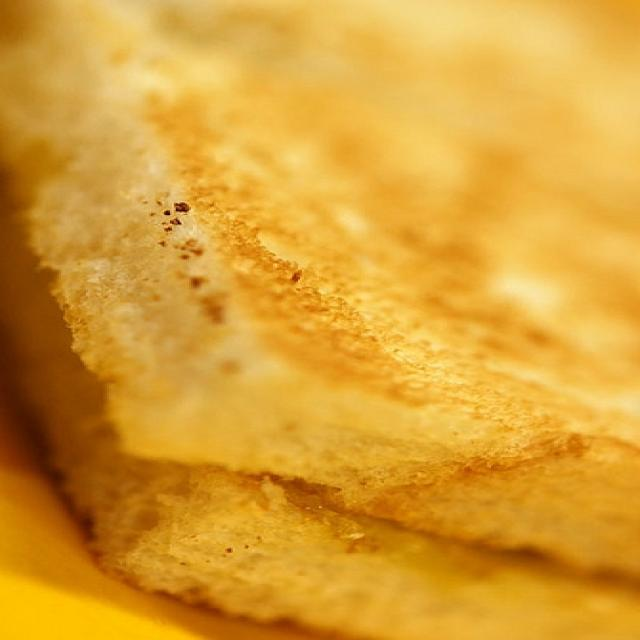面包点心: (17, 18, 613, 626)
